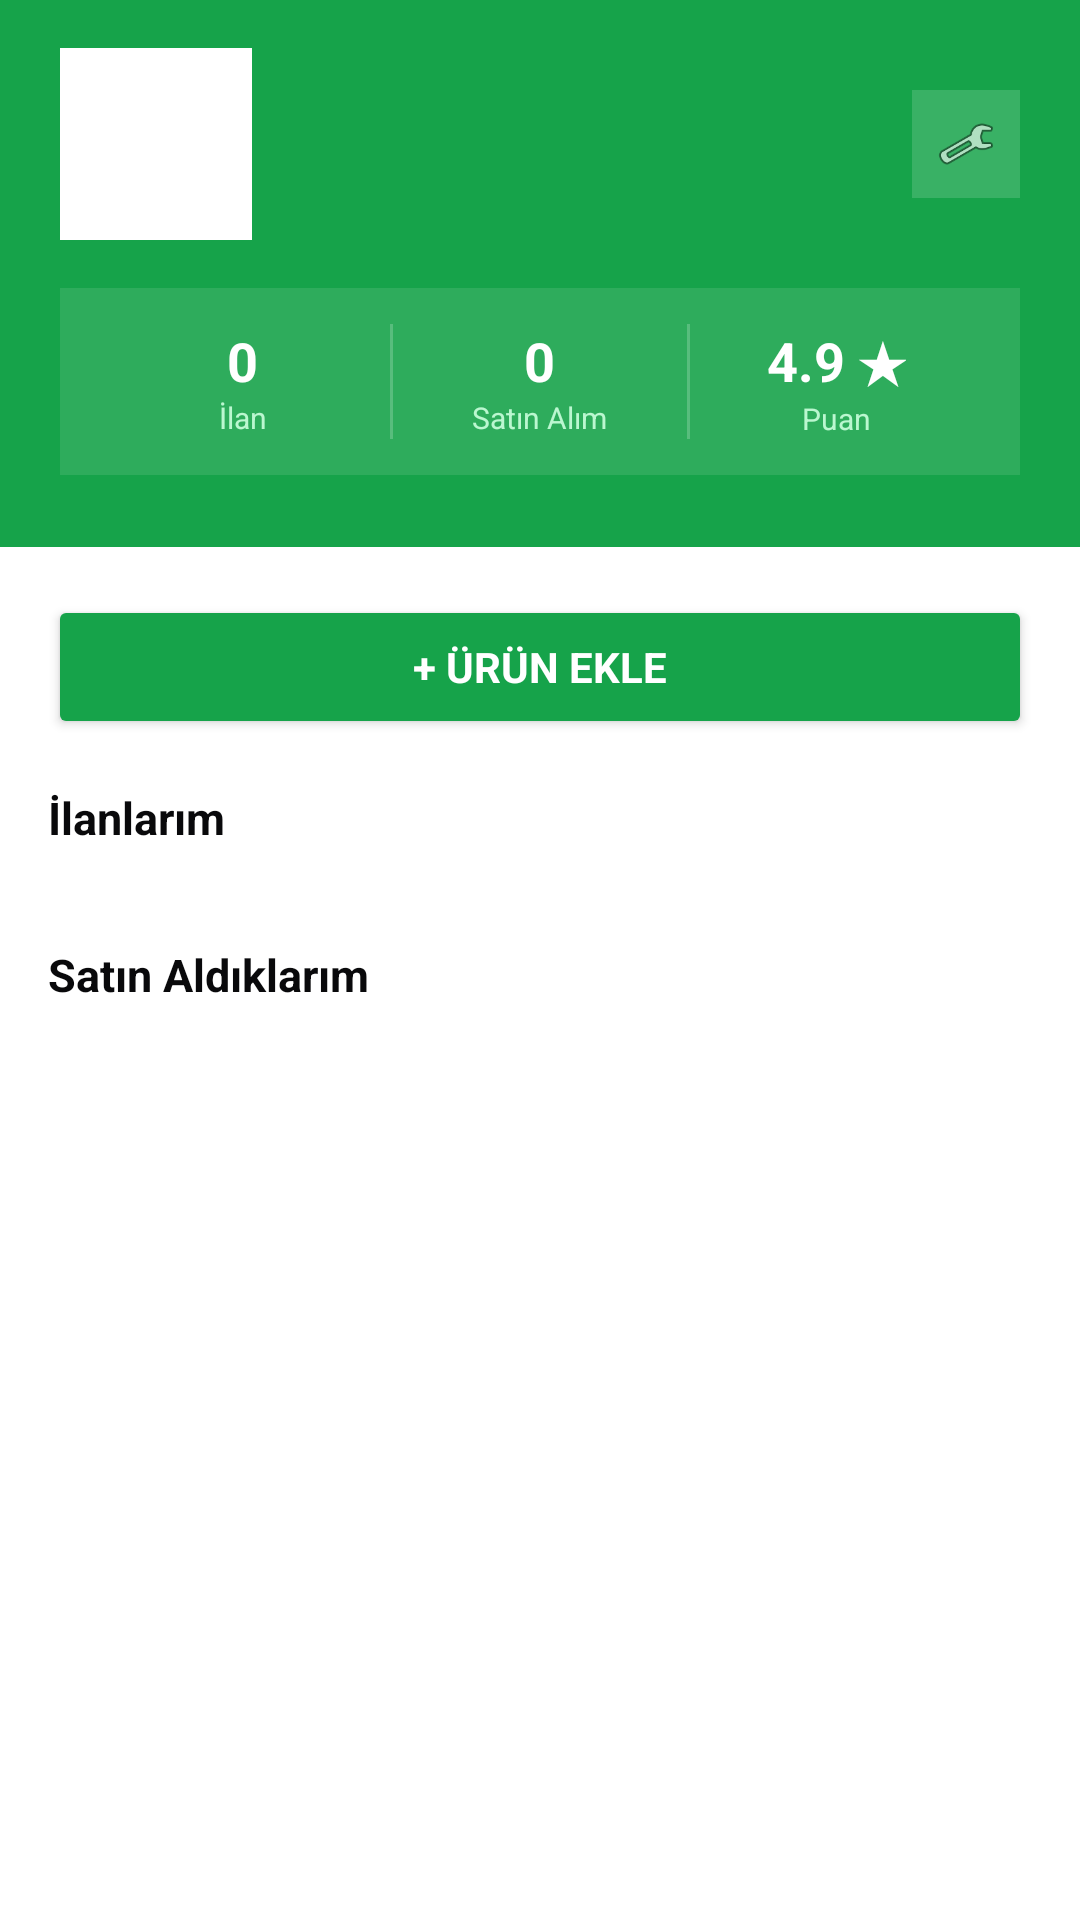

Icon click points for this 1080×1920 phone screenshot, format [x,y]:
preferences: [966,144]
